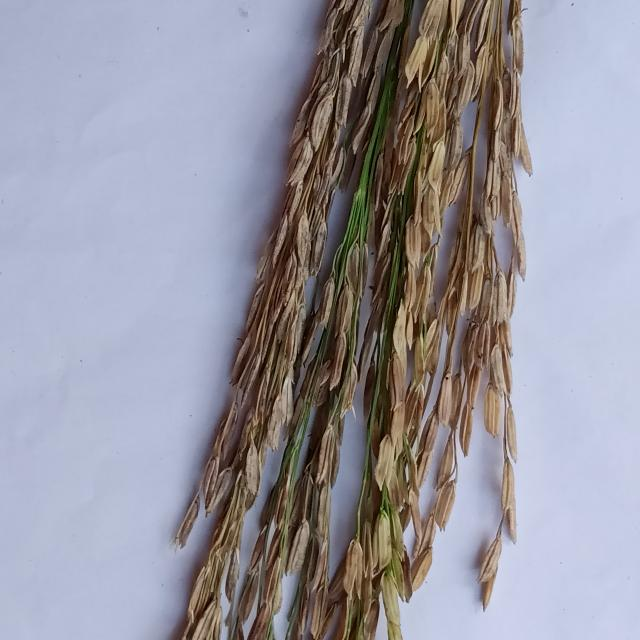Neck_Blast: (154, 0, 400, 640), (318, 0, 529, 640)
